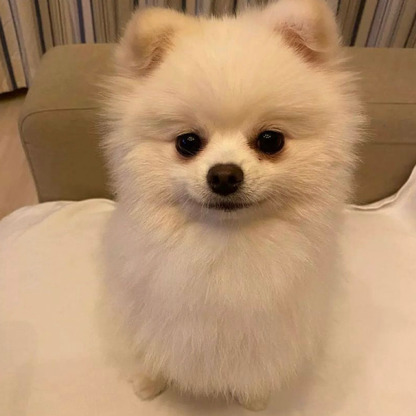Pomeranian: (98, 14, 372, 403)
